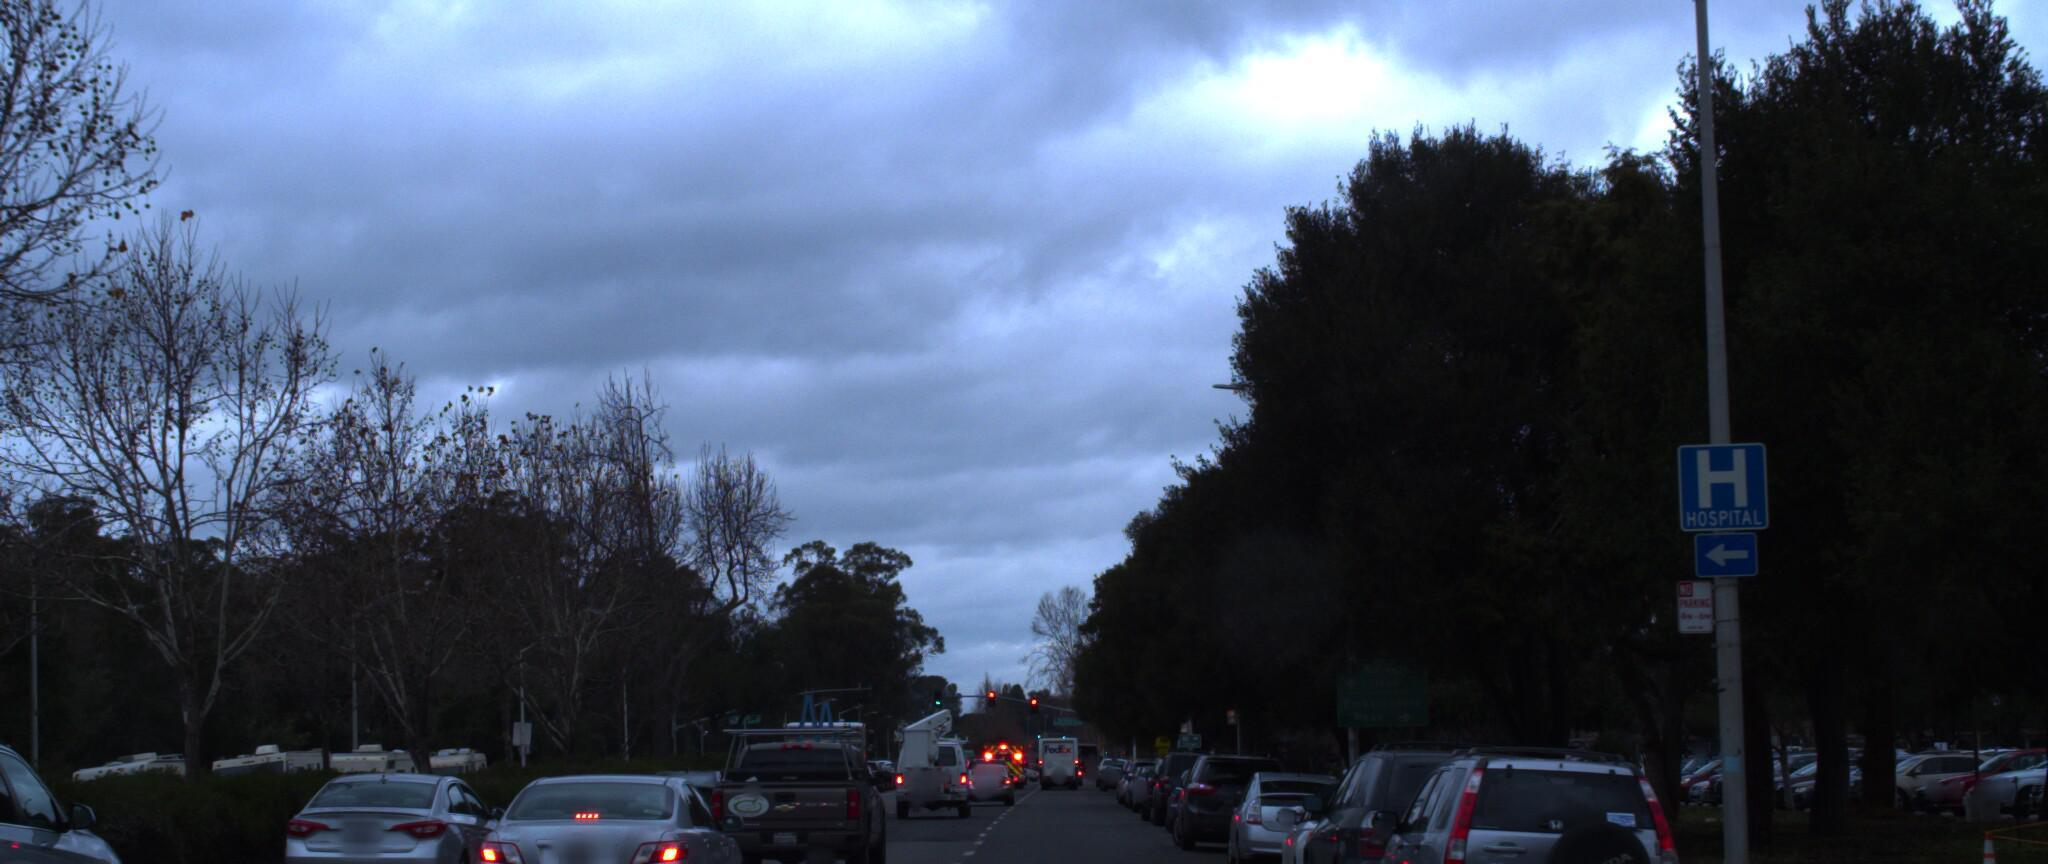car: (1348, 730, 1695, 864), (1290, 718, 1570, 864), (445, 760, 767, 864), (711, 713, 897, 864), (285, 765, 546, 864), (0, 722, 157, 864), (1215, 753, 1354, 864), (1166, 733, 1288, 841)
other_vehicle: (903, 694, 985, 805), (0, 710, 27, 844)
